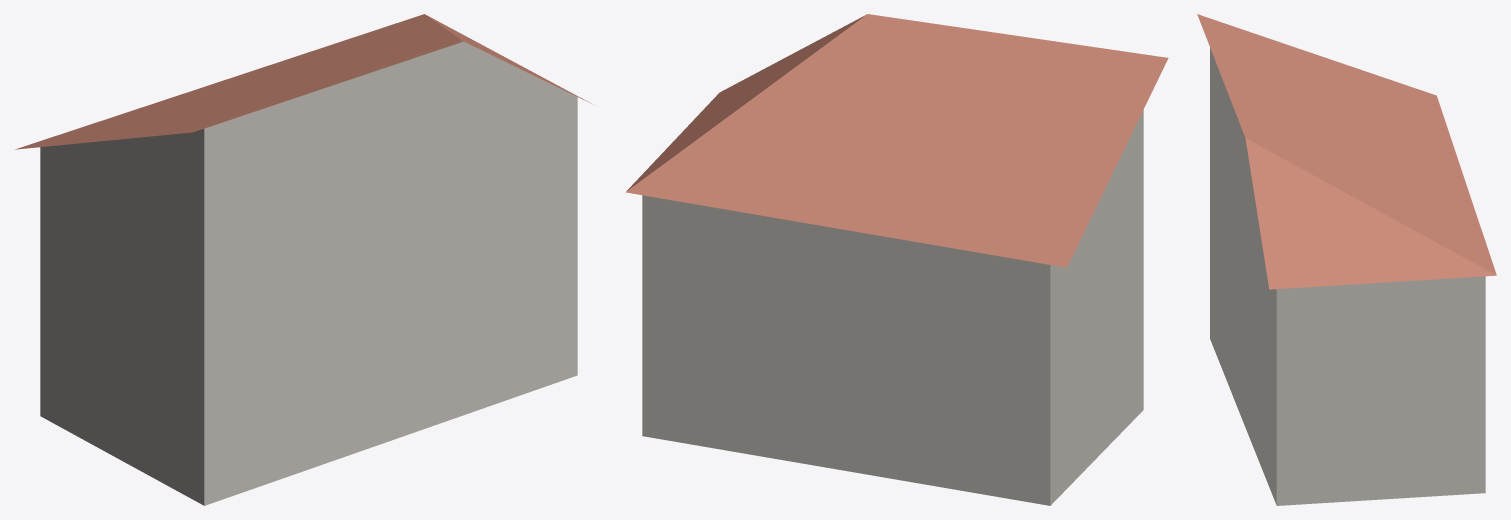
3 views of the same model, side by side, from view 1: azimuth 30°, elevation 25°; view 2: azimuth 150°, elevation 25°; view 3: azimuth 270°, elevation 25° (orthographic). The views are drawn at different scales.
Parts seen in each view (by area): view 1: swisstopo:swissbuildings3d:d40bedf2-c416-45fa-bba7-5d4d5b1ca; view 2: swisstopo:swissbuildings3d:d40bedf2-c416-45fa-bba7-5d4d5b1ca; view 3: swisstopo:swissbuildings3d:d40bedf2-c416-45fa-bba7-5d4d5b1ca.
Part boxes in pixels (bbox=[...]): swisstopo:swissbuildings3d:d40bedf2-c416-45fa-bba7-5d4d5b1ca: bbox=[15, 14, 595, 505]; swisstopo:swissbuildings3d:d40bedf2-c416-45fa-bba7-5d4d5b1ca: bbox=[626, 14, 1168, 505]; swisstopo:swissbuildings3d:d40bedf2-c416-45fa-bba7-5d4d5b1ca: bbox=[1197, 14, 1496, 505].
Bounding box in the file's own units: 8.16 × 6.22 × 5.33.
